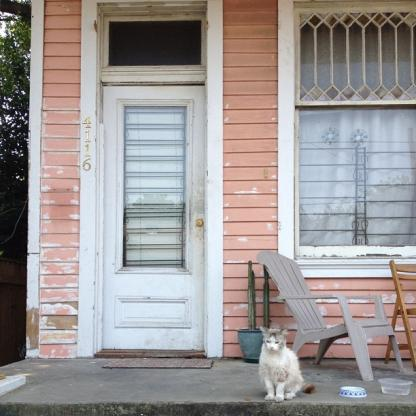Target: (254, 327, 318, 404)
